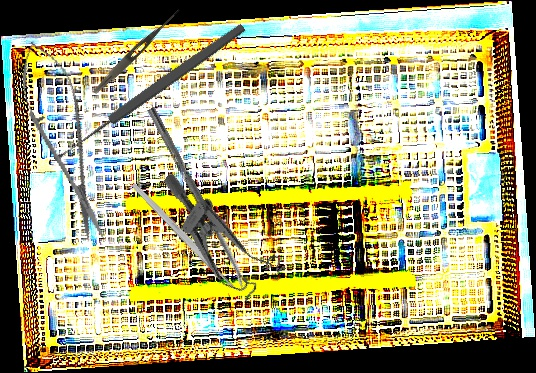Dressing Forceps: (90, 5, 183, 97)
Micro Scissor: (7, 34, 121, 248)
Scalpel Handle: (130, 181, 236, 291)
Speculum: (133, 172, 295, 310)
Surgical Spoon: (50, 21, 248, 165), (146, 106, 249, 289)
